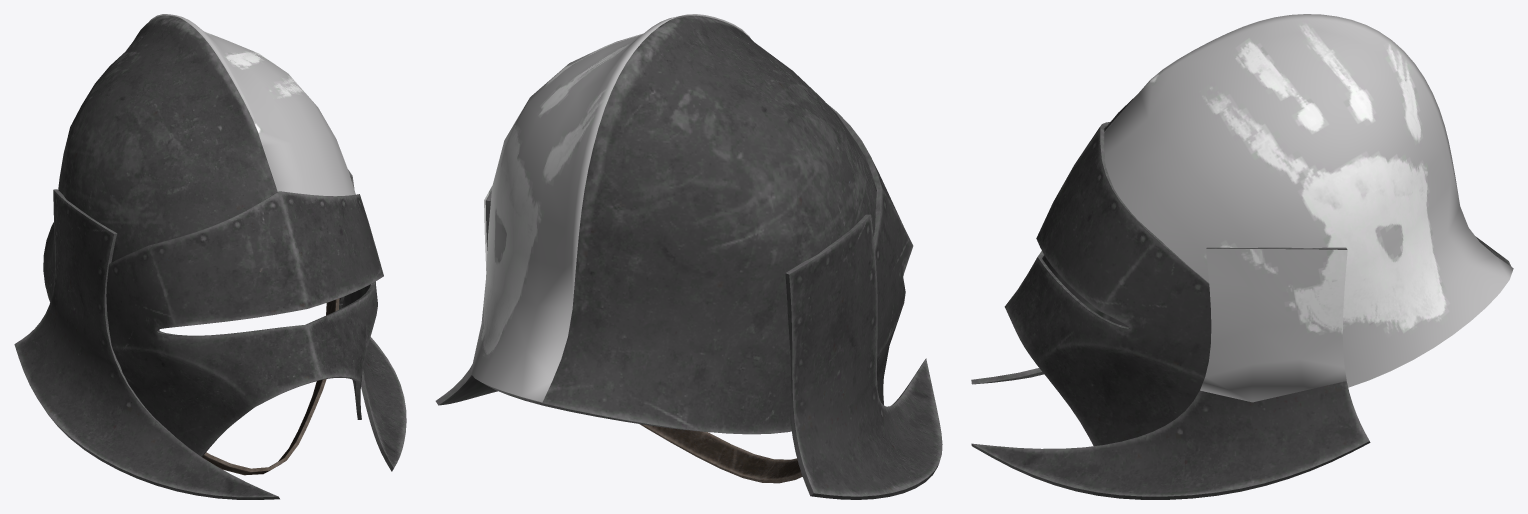
Rendered from sk_uruk_hai_helmet_sword_med_a3.fbx.
The picture shows the model from 3 angles, left to right: view 1: azimuth 30°, elevation 25°; view 2: azimuth 150°, elevation 25°; view 3: azimuth 270°, elevation 25°; orthographic projection. The views are drawn at different scales.
Parts seen in each view (by area): view 1: sk_uruk_hai_helmet_sword_med_a3.2, sk_uruk_hai_helmet_sword_med_a3.0, sk_uruk_hai_helmet_sword_med_a3.1; view 2: sk_uruk_hai_helmet_sword_med_a3.2, sk_uruk_hai_helmet_sword_med_a3.0, sk_uruk_hai_helmet_sword_med_a3.1; view 3: sk_uruk_hai_helmet_sword_med_a3.0, sk_uruk_hai_helmet_sword_med_a3.2.
Part boxes in pixels (x1=…): sk_uruk_hai_helmet_sword_med_a3.2: x1=14, y1=15, x2=406, y2=499; sk_uruk_hai_helmet_sword_med_a3.0: x1=148, y1=14, x2=355, y2=304; sk_uruk_hai_helmet_sword_med_a3.1: x1=202, y1=298, x2=339, y2=475; sk_uruk_hai_helmet_sword_med_a3.2: x1=435, y1=15, x2=942, y2=499; sk_uruk_hai_helmet_sword_med_a3.0: x1=471, y1=14, x2=750, y2=402; sk_uruk_hai_helmet_sword_med_a3.1: x1=639, y1=424, x2=802, y2=483; sk_uruk_hai_helmet_sword_med_a3.0: x1=1104, y1=14, x2=1513, y2=402; sk_uruk_hai_helmet_sword_med_a3.2: x1=971, y1=95, x2=1511, y2=499.
Size of the model in its own units: 0.2651 by 0.3412 by 0.3161.
Materials: 3 (3 with a texture image).
